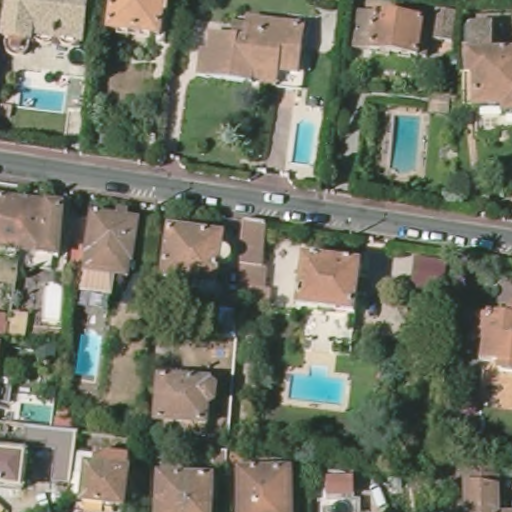pool: (286, 366, 348, 407), (390, 111, 423, 179), (18, 84, 70, 114), (291, 121, 321, 166), (76, 326, 101, 379), (18, 399, 54, 425)
